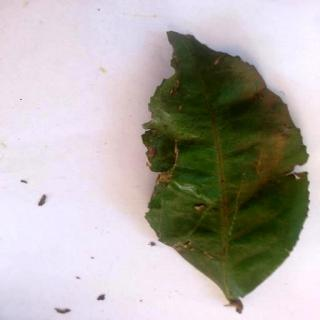Brown Blight: (143, 33, 312, 315)
